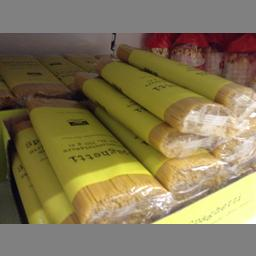pasta: (26, 95, 172, 222), (94, 56, 236, 131), (0, 52, 71, 100)
